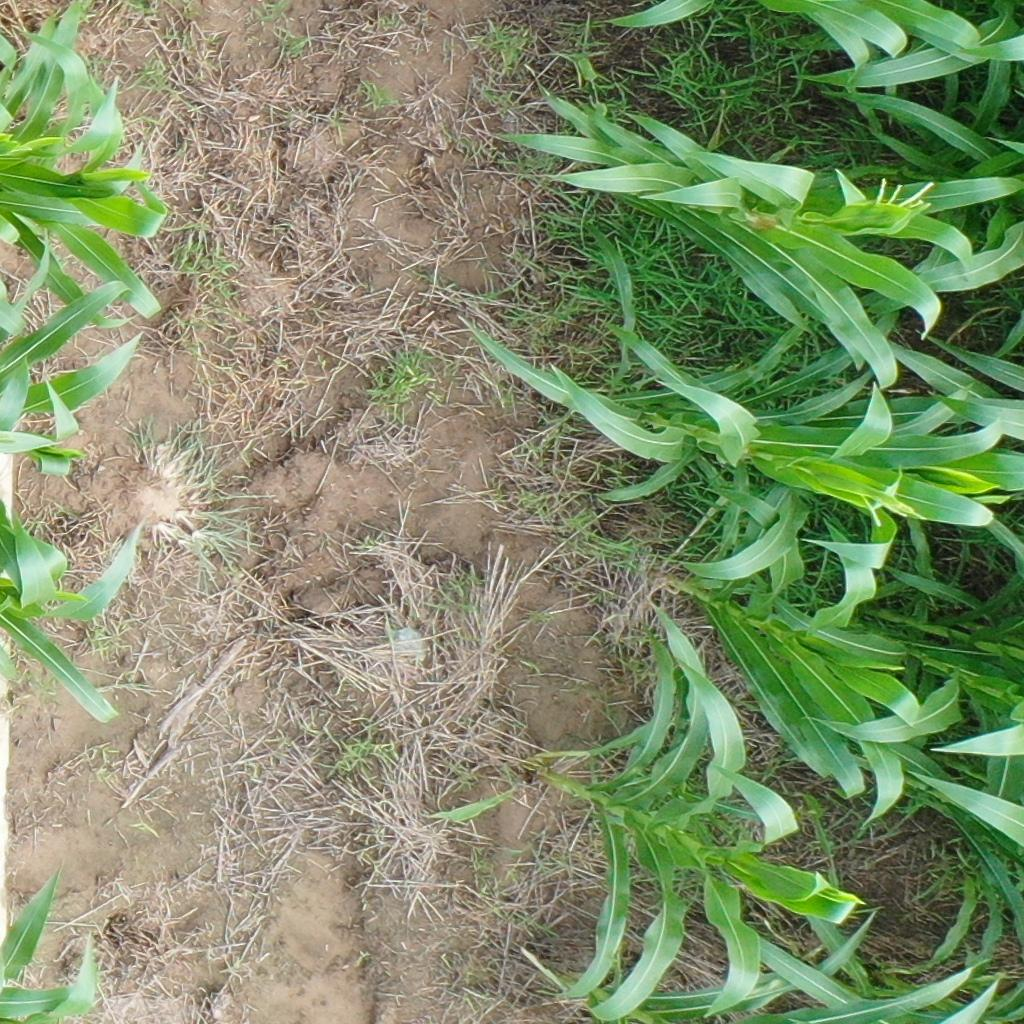Tassel: (860, 468, 927, 532), (873, 176, 936, 240)
